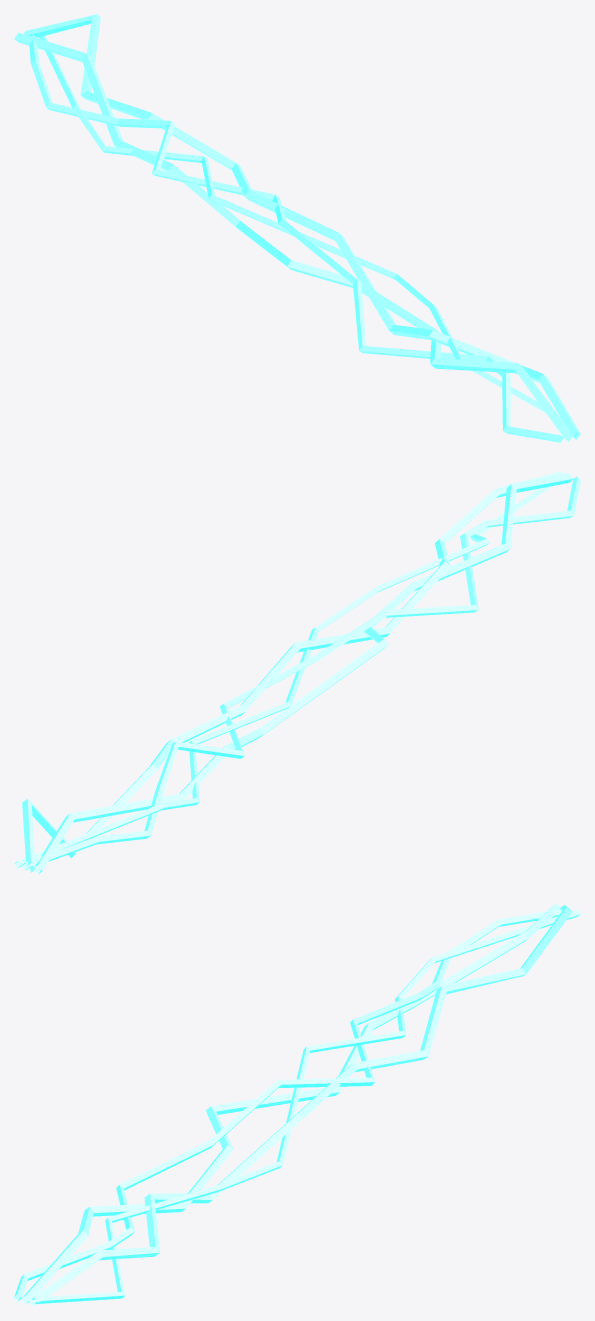
File: lightning.glb
3 renders of one model, top to bottom at view 1: azimuth 30°, elevation 25°; view 2: azimuth 150°, elevation 25°; view 3: azimuth 330°, elevation 25°, orthographic. The views are drawn at different scales.
Visible parts, largest first — view 1: BezierCurve.001, BezierCurve.002, BezierCurve, BezierCurve.003; view 2: BezierCurve.002, BezierCurve, BezierCurve.001, BezierCurve.003; view 3: BezierCurve.001, BezierCurve.002, BezierCurve, BezierCurve.003.
Part boxes in pixels (left/top/right/bottom): BezierCurve.001: left=23, top=14, right=580, bottom=439; BezierCurve.002: left=14, top=32, right=572, bottom=441; BezierCurve: left=29, top=34, right=563, bottom=442; BezierCurve.003: left=39, top=36, right=577, bottom=437; BezierCurve.002: left=33, top=473, right=573, bottom=874; BezierCurve: left=21, top=476, right=580, bottom=870; BezierCurve.001: left=22, top=471, right=563, bottom=872; BezierCurve.003: left=14, top=486, right=552, bottom=867; BezierCurve.001: left=29, top=905, right=572, bottom=1306; BezierCurve.002: left=21, top=903, right=559, bottom=1304; BezierCurve: left=14, top=907, right=572, bottom=1301; BezierCurve.003: left=32, top=910, right=580, bottom=1304.
Bounding box in the file's own units: 0.2212 × 0.1383 × 1.98.
